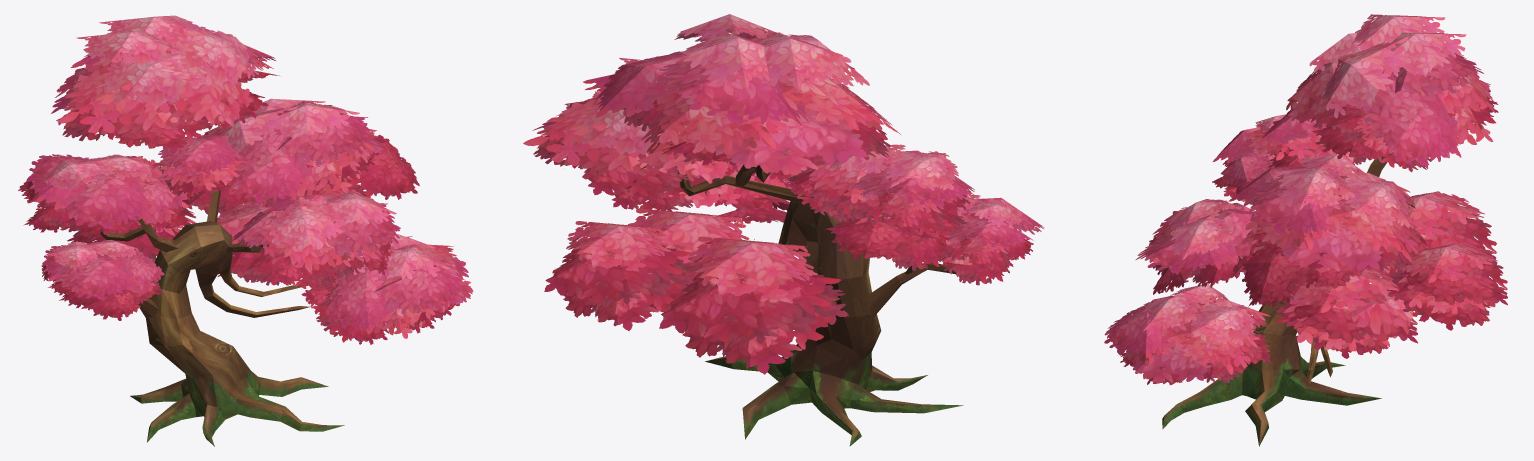
The model's file is TKZC_DaShu_01.fbx.
3 views of the same model, side by side, from view 1: azimuth 30°, elevation 25°; view 2: azimuth 150°, elevation 25°; view 3: azimuth 270°, elevation 25° (orthographic). The views are drawn at different scales.
Parts seen in each view (by area): view 1: TKZC_DaShu_01; view 2: TKZC_DaShu_01; view 3: TKZC_DaShu_01.
Part boxes in pixels (left/top/right/bottom): TKZC_DaShu_01: left=18, top=15, right=473, bottom=446; TKZC_DaShu_01: left=523, top=14, right=1044, bottom=446; TKZC_DaShu_01: left=1104, top=14, right=1507, bottom=446.
Bounding box in the file's own units: 9.67 × 7.83 × 8.44.
